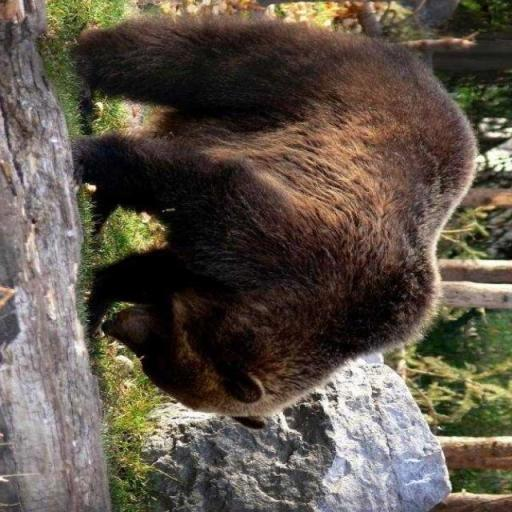Bear: (67, 14, 478, 428)
